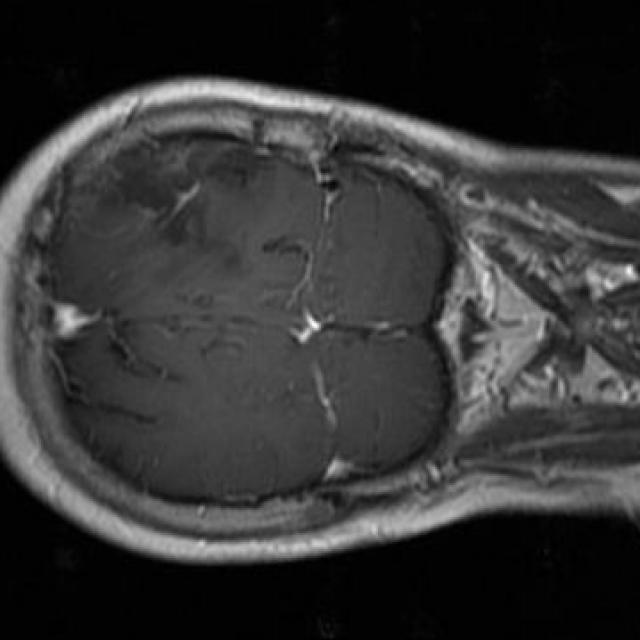glioma: (100, 134, 275, 271)
